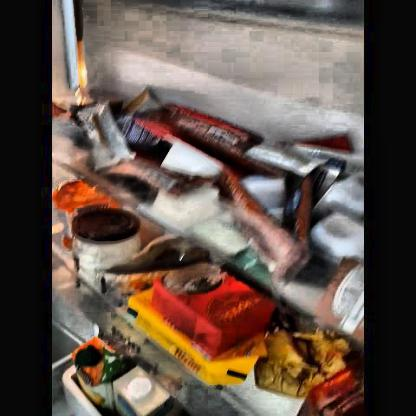butter: (140, 268, 256, 374), (261, 334, 341, 394)
milk: (114, 368, 180, 415)
